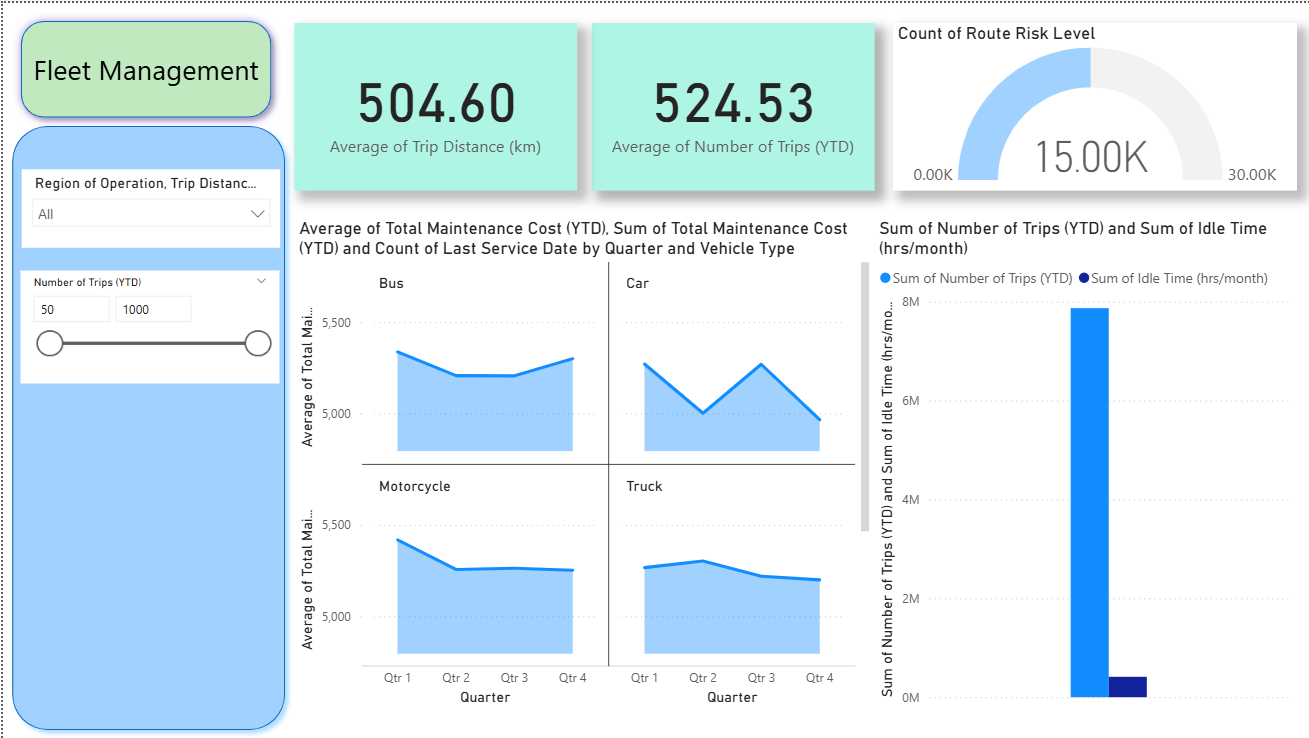

The page's visual inventory and layout, read from the dashboard file:
{"tool":"powerbi","page":{"name":"Objective 1","canvas":[1280,720],"ordinal":0},"visuals":[{"type":"card","fields":{"Values":["Avg(Fleet_Management_Data.Number of Trips (YTD))"]},"box":[575.9,19.8,276.7,163.7],"z":0},{"type":"card","fields":{"Values":["Avg(Fleet_Management_Data.Trip Distance (km))"]},"box":[285.1,19.8,276.7,163.7],"z":1000},{"type":"shape","box":[0,111.3,284.9,609],"z":2000},{"type":"areaChart","fields":{"Y":["Avg(Fleet_Management_Data.Total Maintenance Cost (YTD))"],"Category":["Fleet_Management_Data.Last Service Date.Variation.Date Hierarchy.Quarter"],"Rows":["Fleet_Management_Data.Vehicle Type"]},"box":[285.1,210.3,567.4,482.8],"z":3000},{"type":"gauge","fields":{"Y":["CountNonNull(Fleet_Management_Data.Route Risk Level)"]},"box":[870.9,19.8,395.2,163.7],"z":4000},{"type":"clusteredColumnChart","fields":{"Y":["Sum(Fleet_Management_Data.Number of Trips (YTD))","Sum(Fleet_Management_Data.Idle Time (hrs/month))"]},"box":[852.6,210.3,413.6,482.8],"z":5000},{"type":"slicer","fields":{"Values":["Fleet_Management_Data.Region of Operation","Fleet_Management_Data.Trip Distance (km)"]},"box":[18.3,162.6,253.1,77],"z":6000},{"type":"slicer","fields":{"Values":["Fleet_Management_Data.Number of Trips (YTD)"]},"box":[17.1,261.7,253.1,110.1],"z":7000},{"type":"shape","box":[8.6,8.6,262.9,112.5],"z":7001}]}

Visuals, with their boxes in screenshot pixels (x1, y1, x2, y2), scaled from the page's 1280x720 canvas onto the 1309x738 screenshot:
card - Avg(Fleet_Management_Data.Number of Trips (YTD)): crop(589, 20, 872, 188)
card - Avg(Fleet_Management_Data.Trip Distance (km)): crop(292, 20, 575, 188)
shape: crop(0, 114, 291, 737)
areaChart - Avg(Fleet_Management_Data.Total Maintenance Cost (YTD)) x Fleet_Management_Data.Last Service Date.Variation.Date Hierarchy.Quarter: crop(292, 216, 872, 710)
gauge - CountNonNull(Fleet_Management_Data.Route Risk Level): crop(891, 20, 1295, 188)
clusteredColumnChart - Sum(Fleet_Management_Data.Number of Trips (YTD)) x Sum(Fleet_Management_Data.Idle Time (hrs/month)): crop(872, 216, 1295, 710)
slicer - Fleet_Management_Data.Region of Operation x Fleet_Management_Data.Trip Distance (km): crop(19, 167, 278, 246)
slicer - Fleet_Management_Data.Number of Trips (YTD): crop(17, 268, 276, 381)
shape: crop(9, 9, 278, 124)
